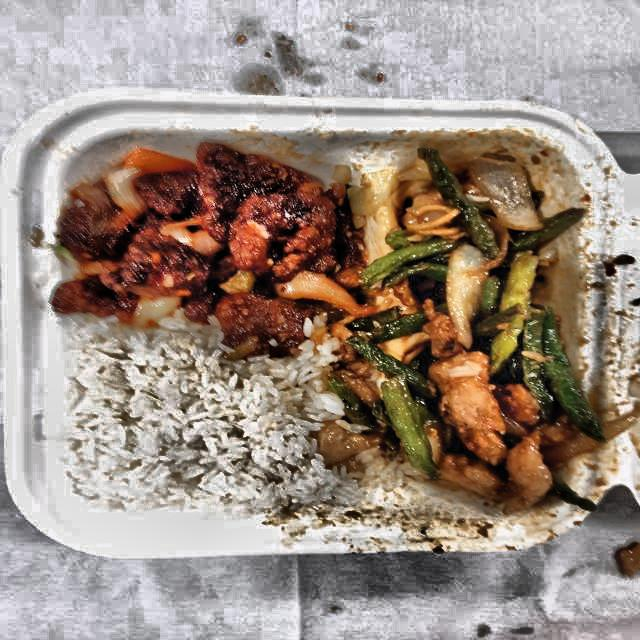Food: (344, 168, 610, 511), (50, 135, 341, 337), (66, 336, 324, 515)
